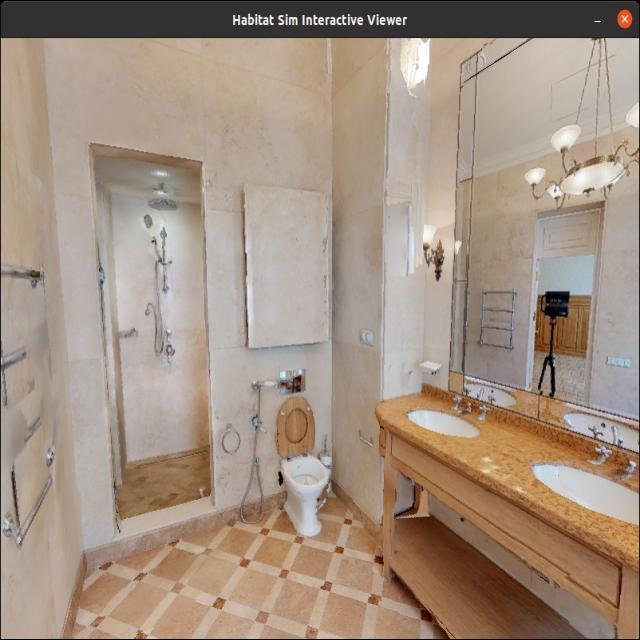door-frame: (72, 131, 244, 554)
shower: (117, 205, 220, 517)
sink: (516, 416, 640, 570), (377, 373, 515, 500)
toilet: (267, 381, 350, 564)
